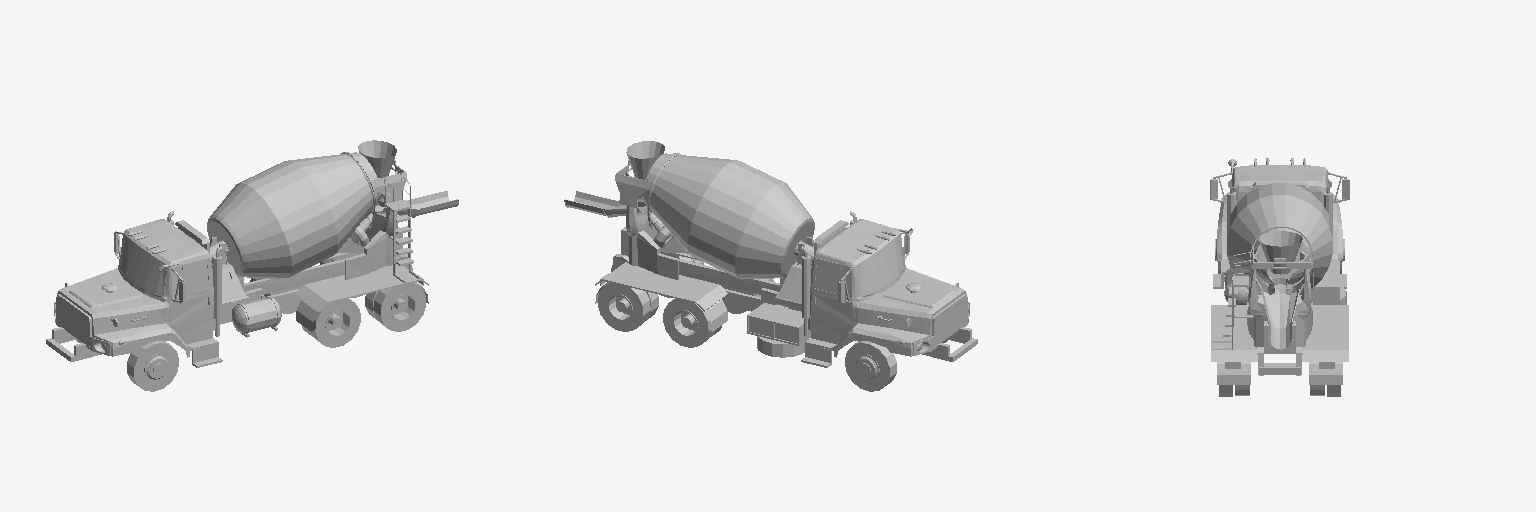
File: Cement_Mixer_Truck_Centered.obj
3 renders of one model, left to right at view 1: azimuth 30°, elevation 25°; view 2: azimuth 150°, elevation 25°; view 3: azimuth 270°, elevation 25°, orthographic.
Parts seen in each view (by area): view 1: Cement_Mixer_Truck; view 2: Cement_Mixer_Truck; view 3: Cement_Mixer_Truck.
Boxes of the visible parts, <box> form: Cement_Mixer_Truck: <box>46,140,458,391</box>; Cement_Mixer_Truck: <box>564,141,977,391</box>; Cement_Mixer_Truck: <box>1210,158,1349,396</box>.
Size of the model in its own units: 28.77 by 11.31 by 8.8.